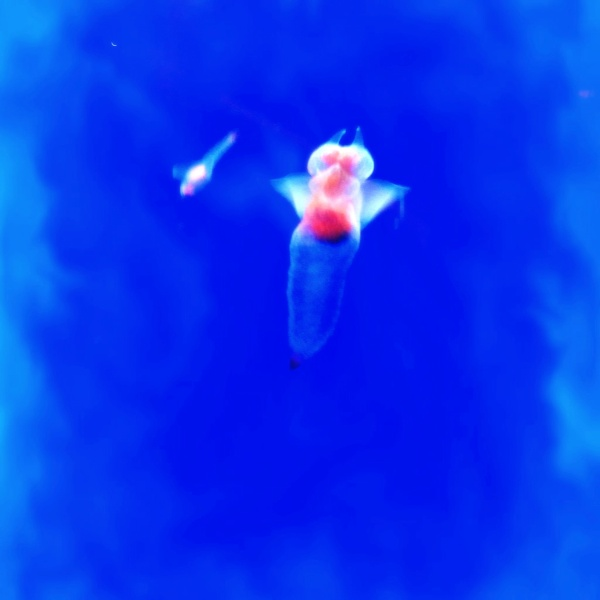Jellyfish: (267, 130, 415, 355)
